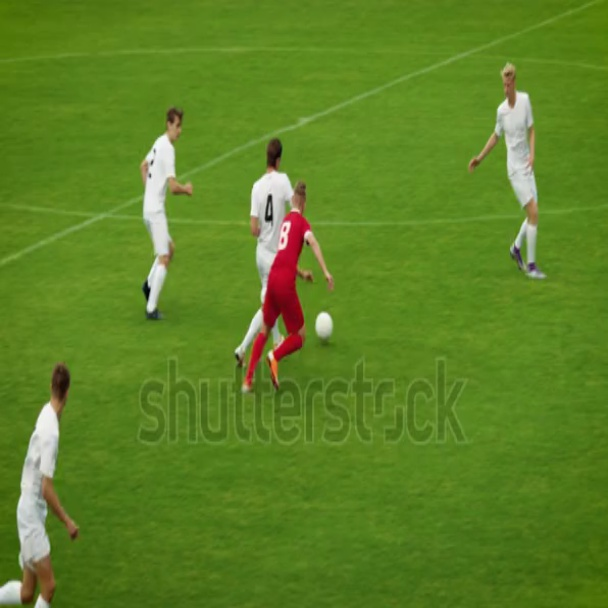ball: (317, 308, 335, 344)
